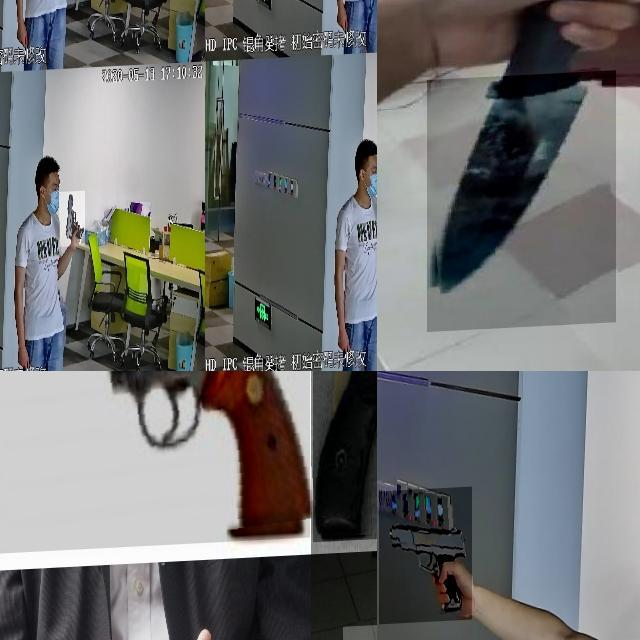-: (427, 73, 616, 333)
gun-knife-thesis - v11 Yolov5 augmented: (0, 371, 310, 554), (379, 488, 472, 626), (60, 193, 84, 249), (127, 0, 148, 27)
